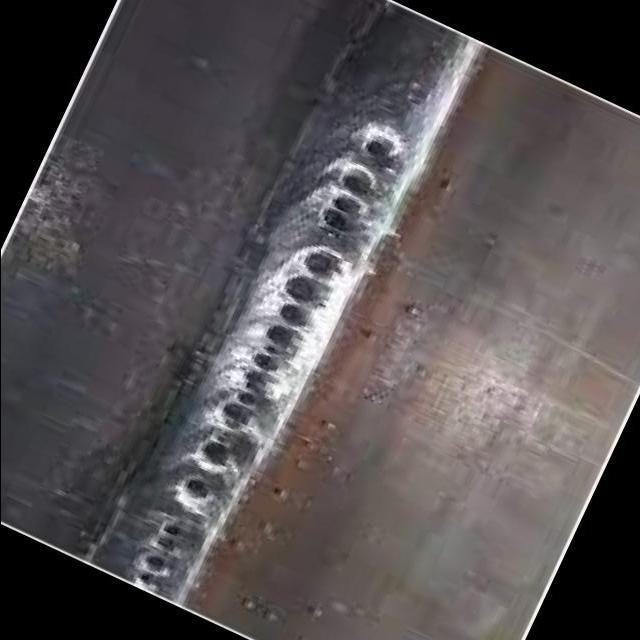defect: (208, 242, 349, 435), (310, 127, 404, 240), (130, 518, 186, 589), (190, 441, 237, 482), (165, 473, 216, 510)
